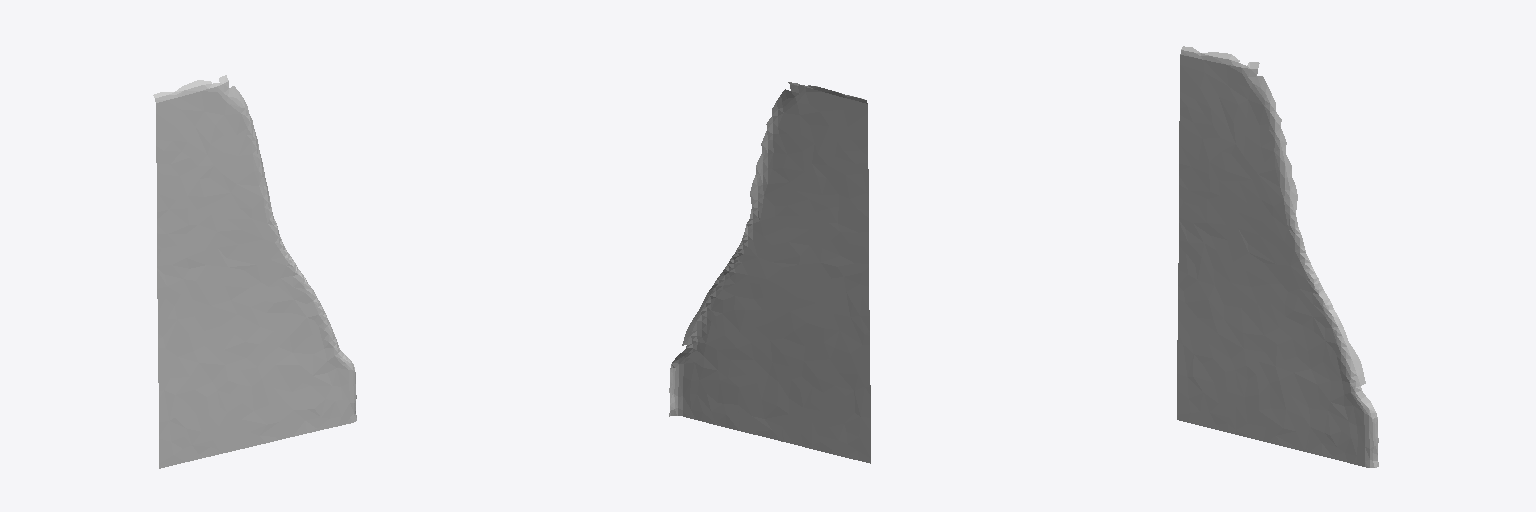
The model's file is split2.obj.
3 renders of one model, left to right at view 1: azimuth 30°, elevation 25°; view 2: azimuth 150°, elevation 25°; view 3: azimuth 330°, elevation 25°, orthographic.
Size of the model in its own units: 0.2697 by 0.4794 by 0.0223.